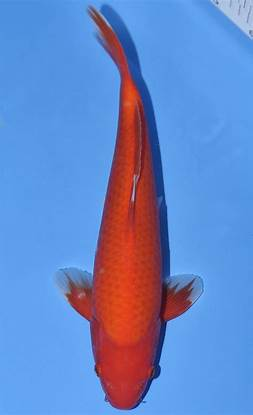red: (52, 3, 204, 410)
